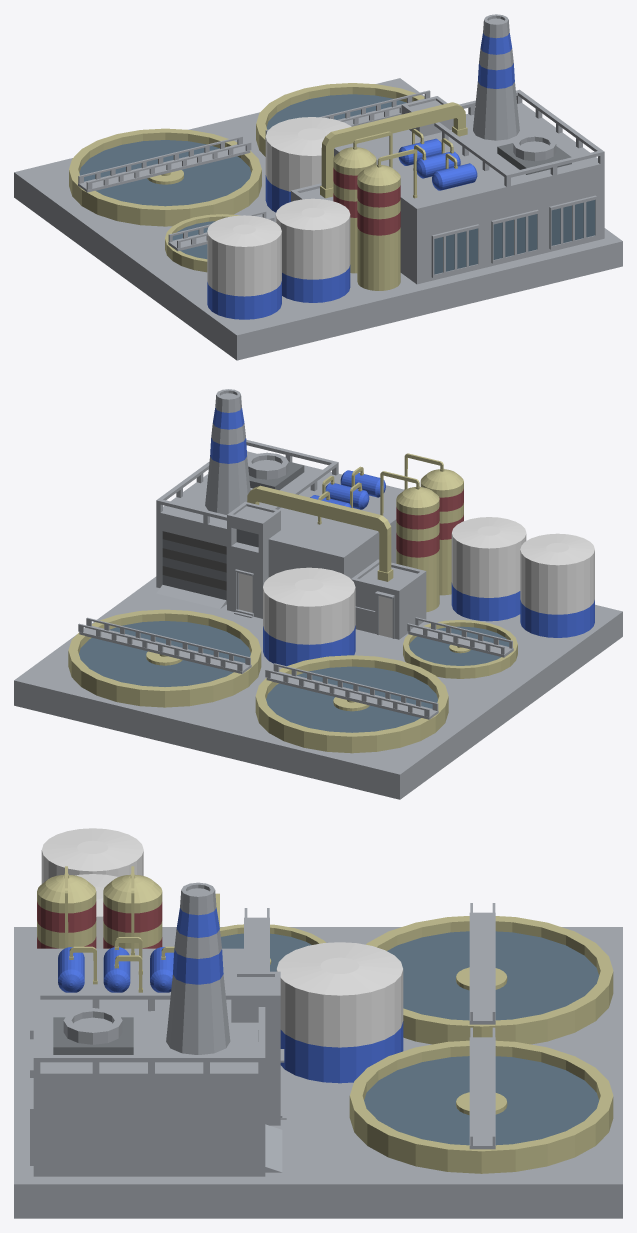
Rendered from waterPlant.glb.
The picture shows the model from 3 angles, top to bottom: view 1: azimuth 30°, elevation 25°; view 2: azimuth 150°, elevation 25°; view 3: azimuth 270°, elevation 25°; orthographic projection. The views are drawn at different scales.
Parts seen in each view (by area): view 1: Water Plant; view 2: Water Plant; view 3: Water Plant.
Part boxes in pixels (x1,y1,x2,y2): Water Plant: [14, 14, 622, 360]; Water Plant: [14, 389, 622, 799]; Water Plant: [14, 828, 622, 1218].
Size of the model in its own units: 2.94 by 1.54 by 2.94.
